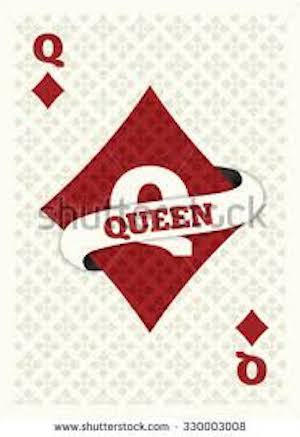QueenOfDiamonds: (9, 9, 293, 413)
